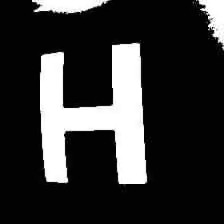LTR_H: (33, 39, 153, 190)
